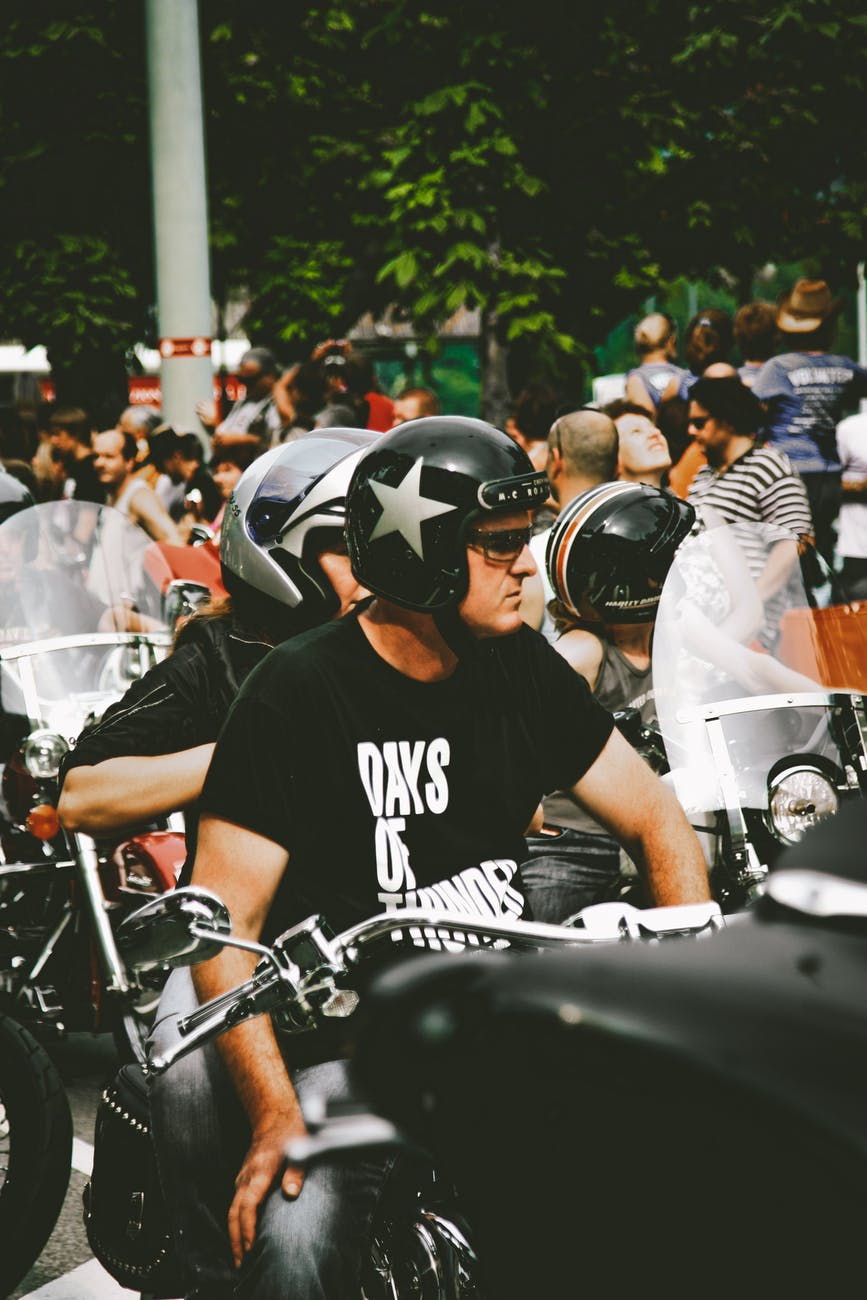helmet: (220, 415, 374, 591), (348, 441, 526, 585)
